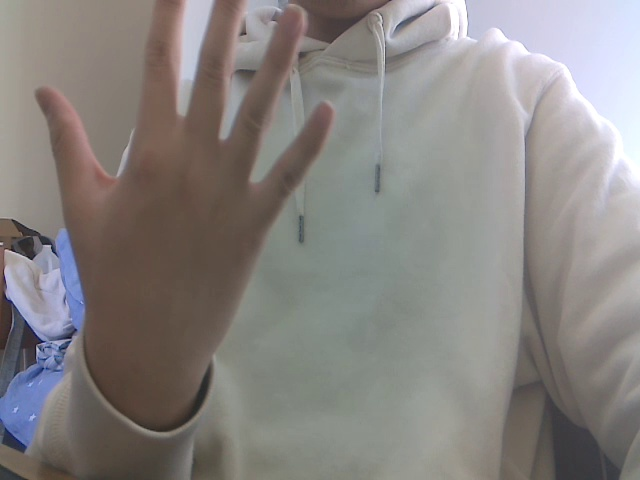hand_gesture_5: (15, 1, 362, 424)
